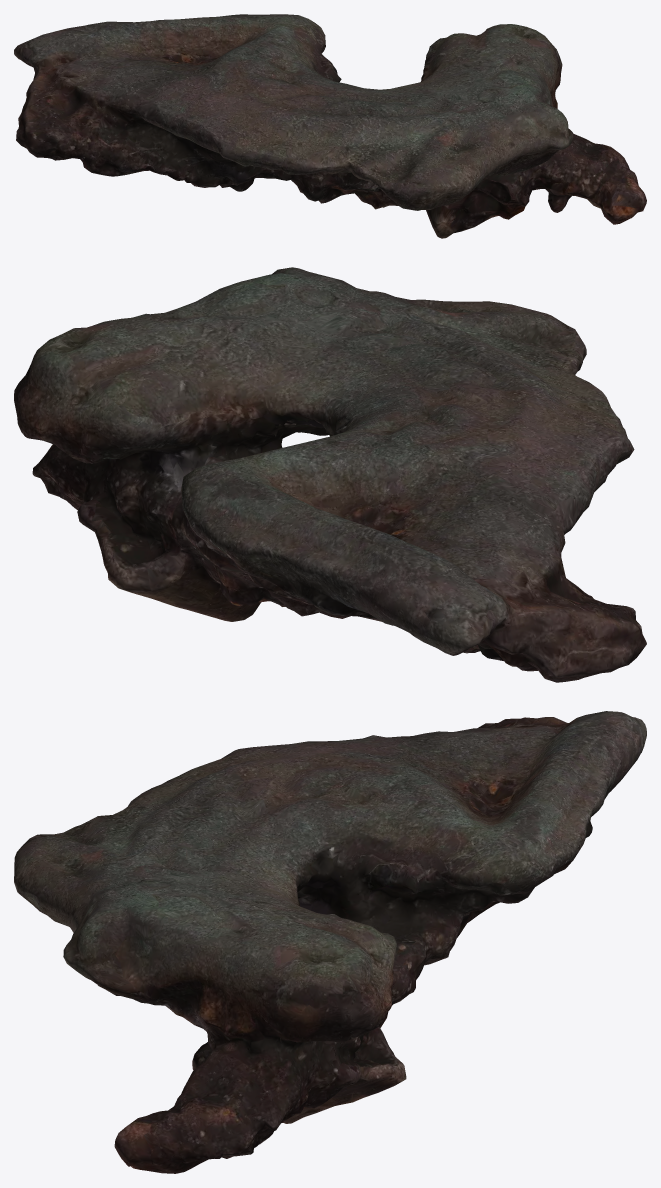
The model's file is deer_low_re-transformed.glb.
The picture shows the model from 3 angles, top to bottom: view 1: azimuth 30°, elevation 25°; view 2: azimuth 150°, elevation 25°; view 3: azimuth 270°, elevation 25°; orthographic projection. The views are drawn at different scales.
Parts seen in each view (by area): view 1: Model; view 2: Model; view 3: Model.
Part boxes in pixels (x1=…): Model: x1=14, y1=14, x2=646, y2=238; Model: x1=14, y1=267, x2=646, y2=682; Model: x1=14, y1=711, x2=646, y2=1173.
Size of the model in its own units: 0.9801 by 0.3551 by 0.8217.
1 material, 1 textured.
